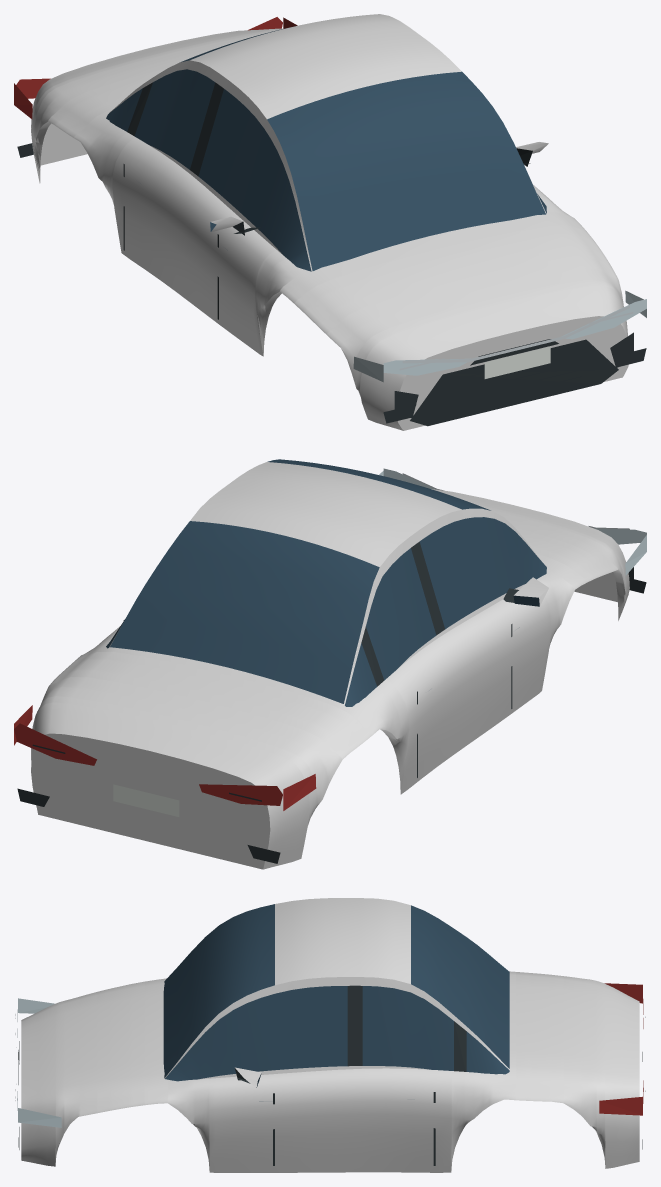
The model's file is veh_vios-lod0.glb.
3 views of the same model, one above another, from view 1: azimuth 30°, elevation 25°; view 2: azimuth 150°, elevation 25°; view 3: azimuth 270°, elevation 25° (orthographic). The views are drawn at different scales.
Visible parts, largest first — view 1: paint, glass, trim, head, plate, tail, chrome; view 2: paint, glass, tail, trim, head, plate; view 3: paint, glass, trim, tail, head.
Part boxes in pixels (left/top/right/bottom): paint: left=31, top=14, right=628, bottom=430; glass: left=106, top=26, right=546, bottom=271; trim: left=17, top=82, right=646, bottom=426; head: left=353, top=290, right=646, bottom=382; plate: left=484, top=346, right=550, bottom=378; tail: left=14, top=17, right=297, bottom=119; chrome: left=136, top=180, right=633, bottom=370; paint: left=31, top=462, right=629, bottom=869; glass: left=106, top=459, right=546, bottom=706; tail: left=14, top=705, right=316, bottom=810; trim: left=17, top=541, right=646, bottom=863; head: left=379, top=468, right=646, bottom=575; plate: left=113, top=784, right=179, bottom=816; paint: left=21, top=898, right=639, bottom=1172; glass: left=163, top=904, right=509, bottom=1087; trim: left=18, top=985, right=645, bottom=1165; tail: left=599, top=983, right=643, bottom=1115; head: left=16, top=998, right=61, bottom=1127.
Bounding box in the file's own units: 1.45 × 0.9 × 2.79.
